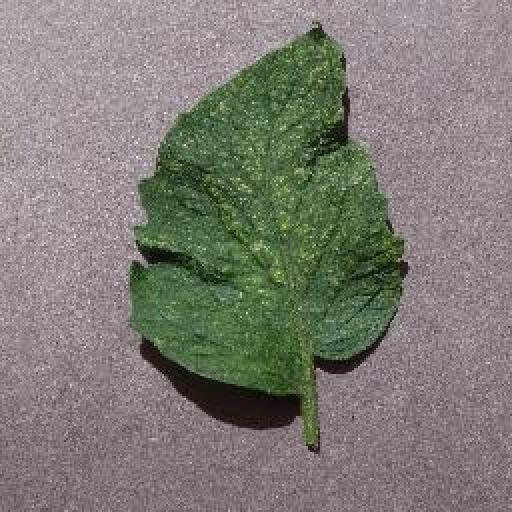disease_tomato: (126, 14, 408, 396)
